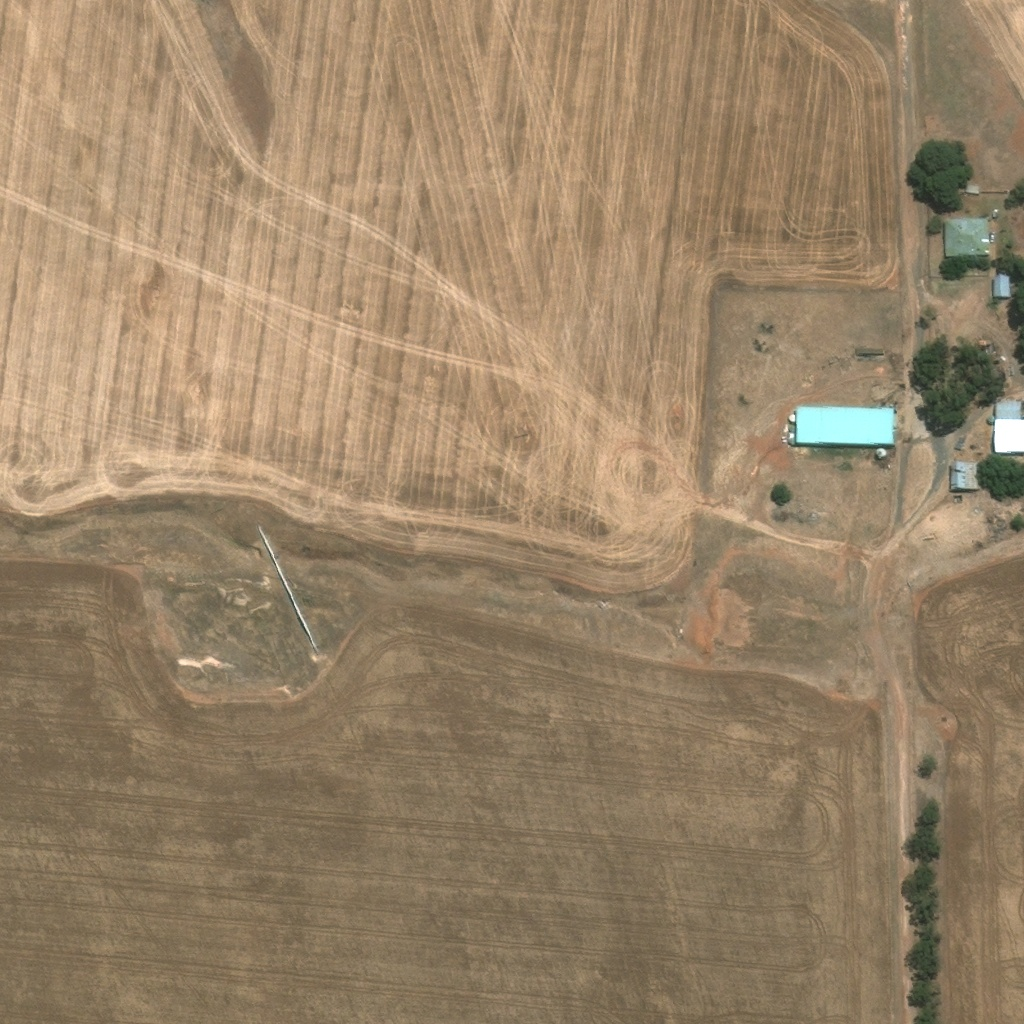0 no-damage: (797, 404, 895, 443), (942, 217, 989, 258), (994, 398, 1023, 457), (950, 458, 978, 493), (993, 273, 1010, 297), (854, 348, 882, 357), (963, 184, 978, 197), (876, 446, 887, 457), (786, 433, 796, 444), (787, 412, 796, 421), (788, 423, 796, 432), (987, 415, 995, 423), (978, 341, 987, 347)
